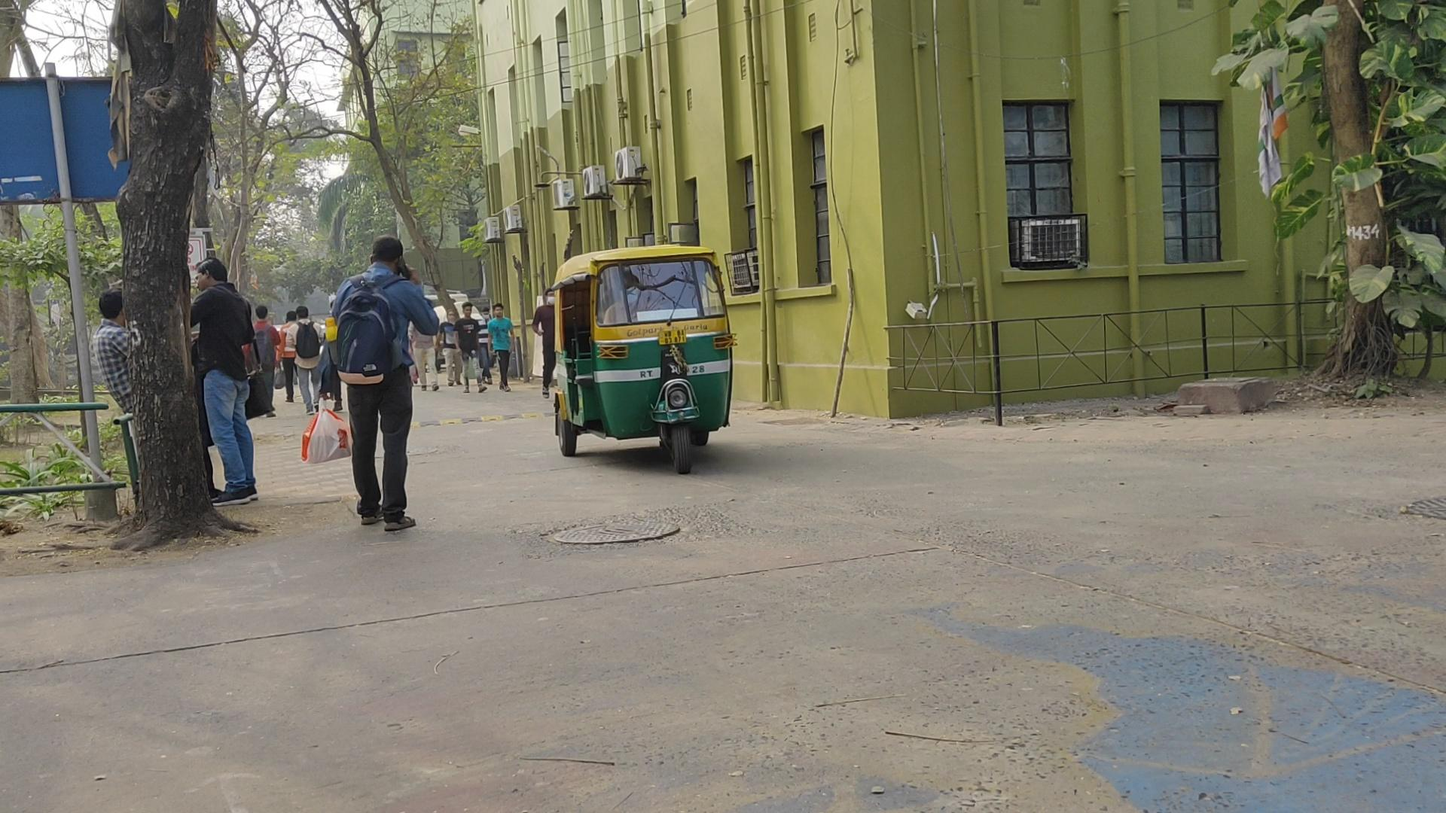Auto: (551, 246, 737, 475)
